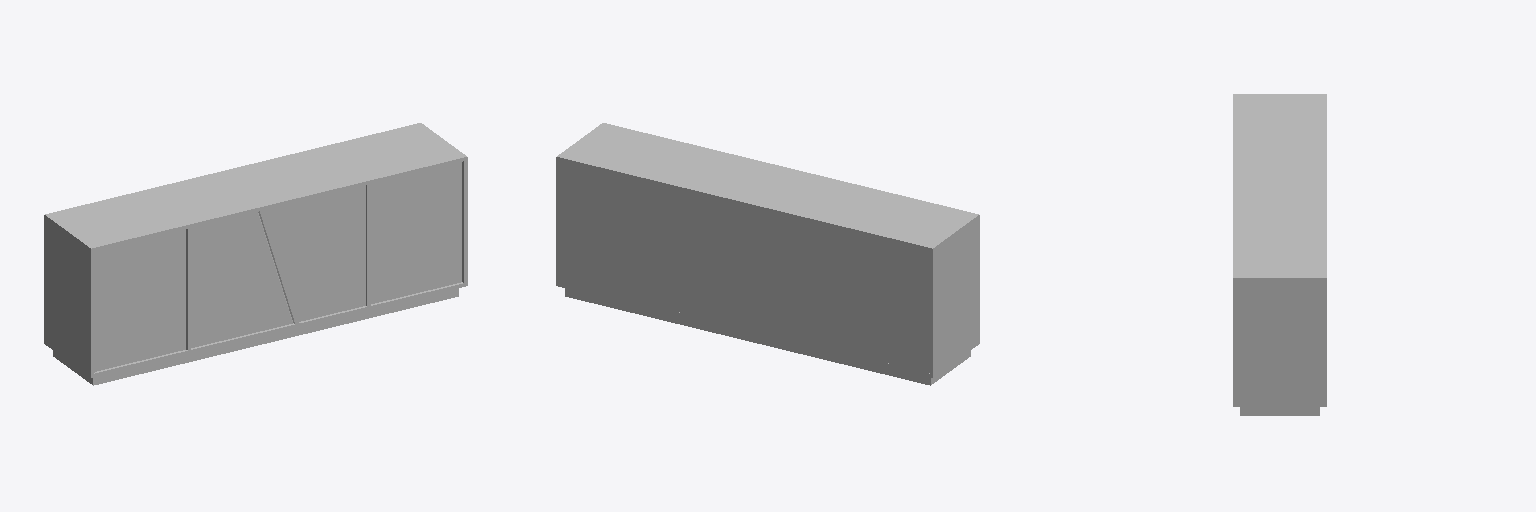
The model's file is Buffet_obj.obj.
3 renders of one model, left to right at view 1: azimuth 30°, elevation 25°; view 2: azimuth 150°, elevation 25°; view 3: azimuth 270°, elevation 25°, orthographic.
Parts seen in each view (by area): view 1: Buffet_Cube.008, Door1_Cube.010, Door4_Cube.013, Door3_Cube.012, Door2_Cube.011; view 2: Buffet_Cube.008; view 3: Buffet_Cube.008.
Part boxes in pixels (x1,y1,x2,y2): Buffet_Cube.008: (44, 123, 467, 385); Door1_Cube.010: (95, 229, 185, 371); Door4_Cube.013: (371, 162, 461, 303); Door3_Cube.012: (263, 185, 365, 321); Door2_Cube.011: (191, 212, 292, 347); Buffet_Cube.008: (556, 123, 979, 385); Buffet_Cube.008: (1233, 94, 1326, 415).
Size of the model in its own units: 2.1 by 0.75 by 0.45.